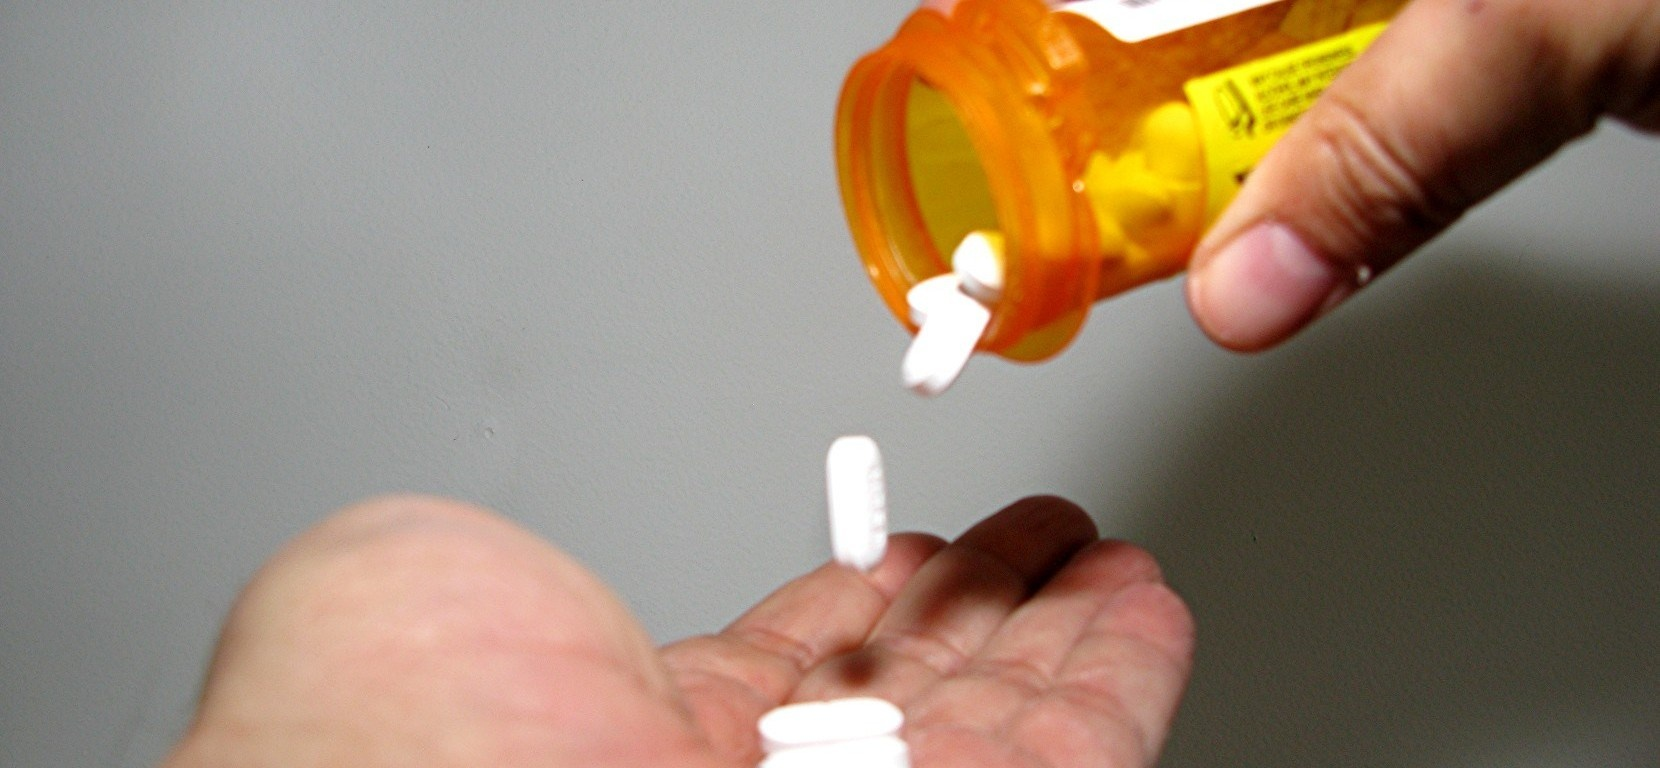pills: (891, 268, 986, 396), (828, 423, 885, 576)
